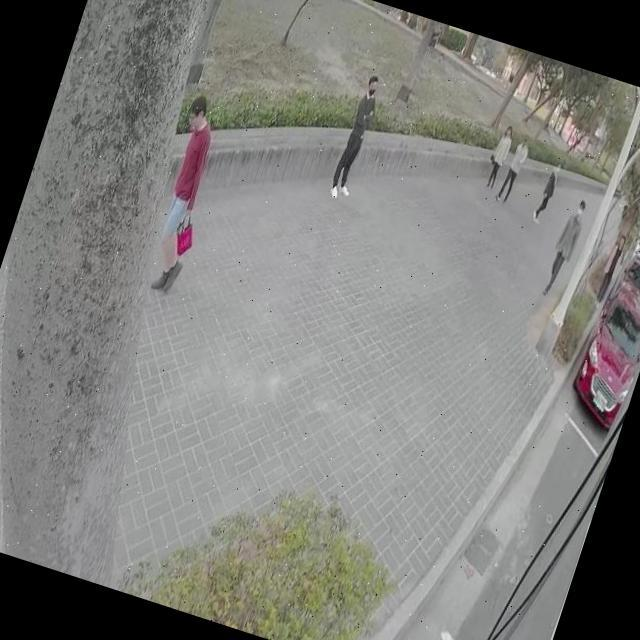person: (134, 91, 234, 293), (324, 70, 388, 198), (542, 197, 590, 297), (592, 230, 628, 306), (496, 129, 533, 201), (529, 158, 563, 227), (482, 122, 517, 188)
